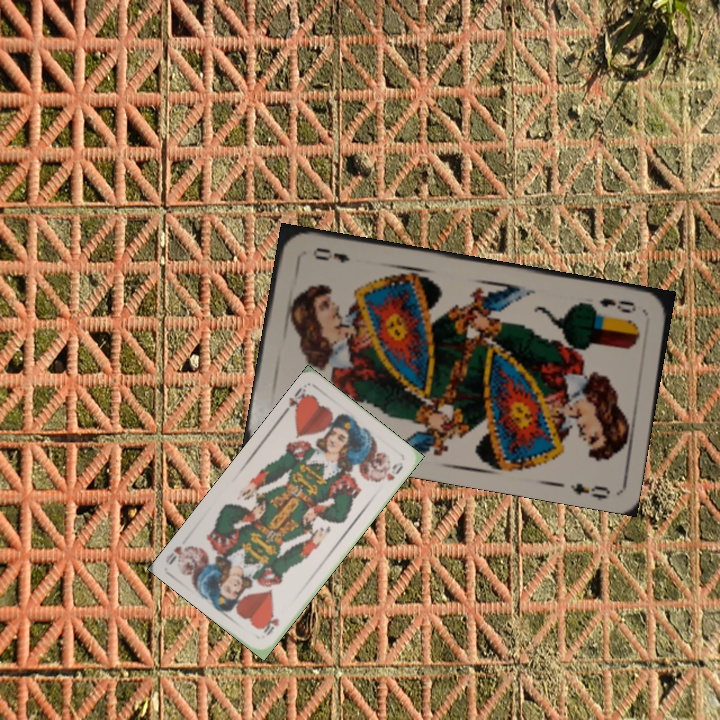EO: (595, 293, 639, 316)
HO: (279, 381, 312, 417), (259, 611, 282, 638)
